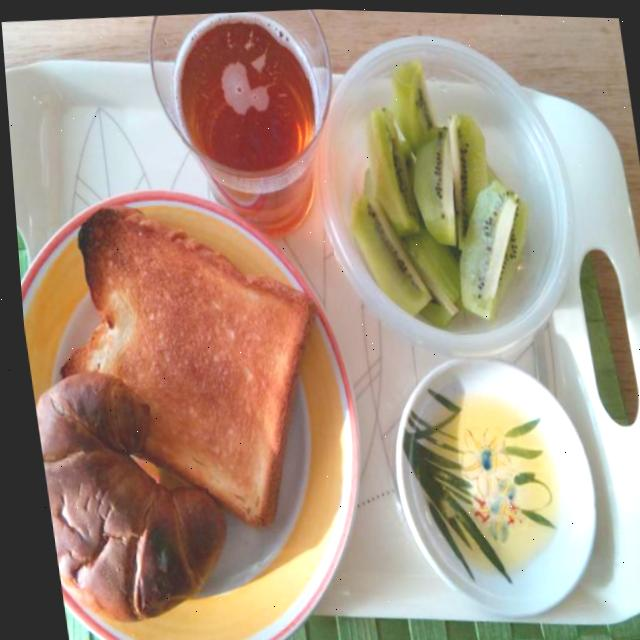面包点心: (37, 177, 347, 537), (24, 366, 242, 640)
